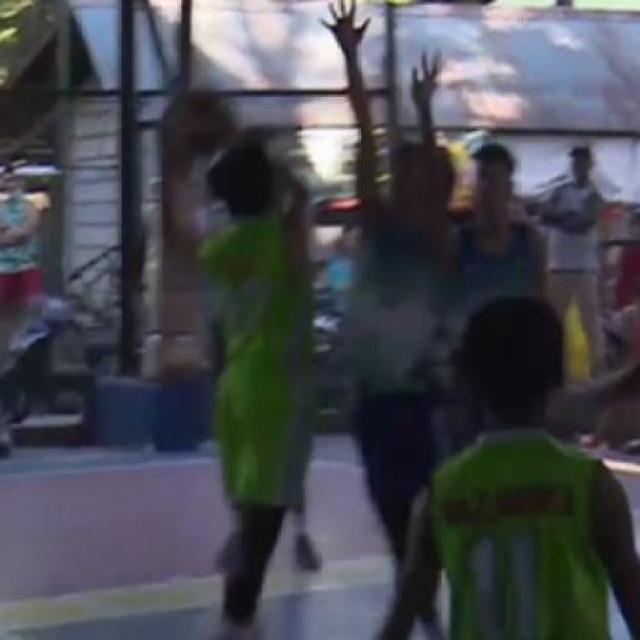Ball: (154, 85, 237, 165)
